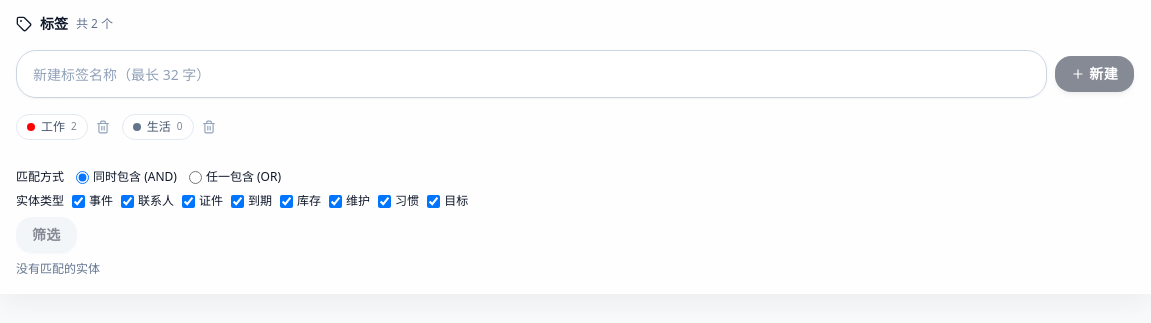
TagManager (checkbox 134) › renders a duplicate-name error as an alert instead of crashing
This screenshot has width=1151, height=323.
Check: the button "工作 2" is shown, box [16,114,88,140]
In the field labelled "新建标签名称": (532, 74) [16,50,1047,98], type "工作"
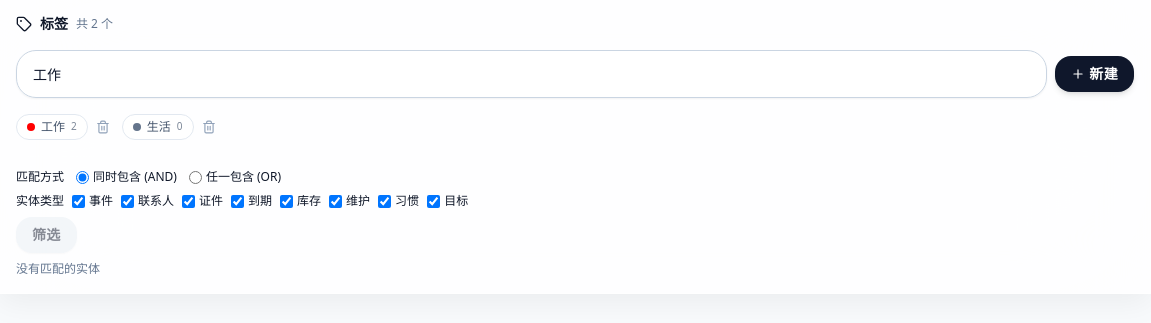
Click the button "新建": (1095, 74) [1055,56,1134,92]
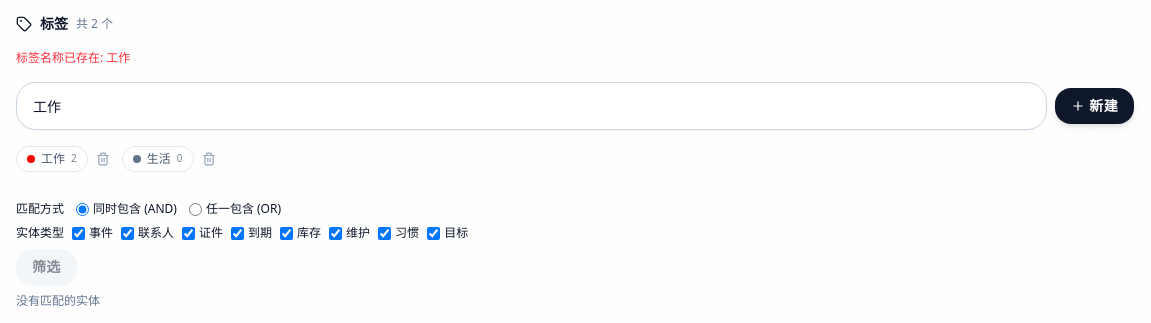
Check: the message with test id "tag-error" shows "标签名称已存在", box [16,49,130,66]
